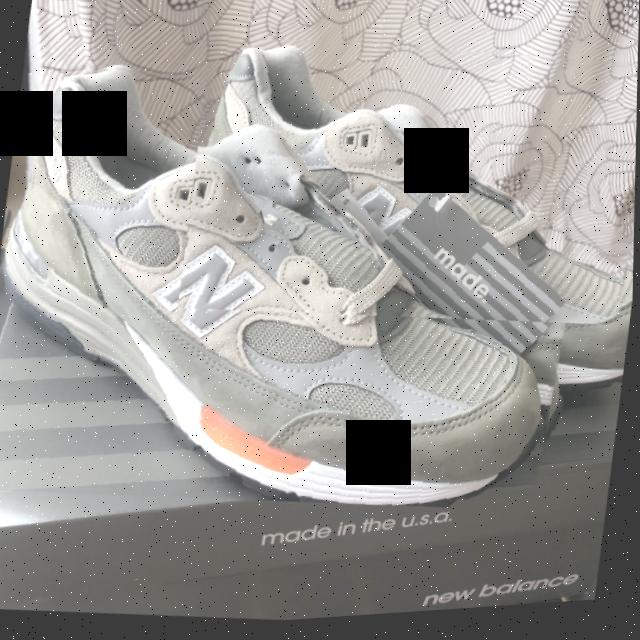shoe: (0, 32, 608, 549), (178, 13, 639, 358)
